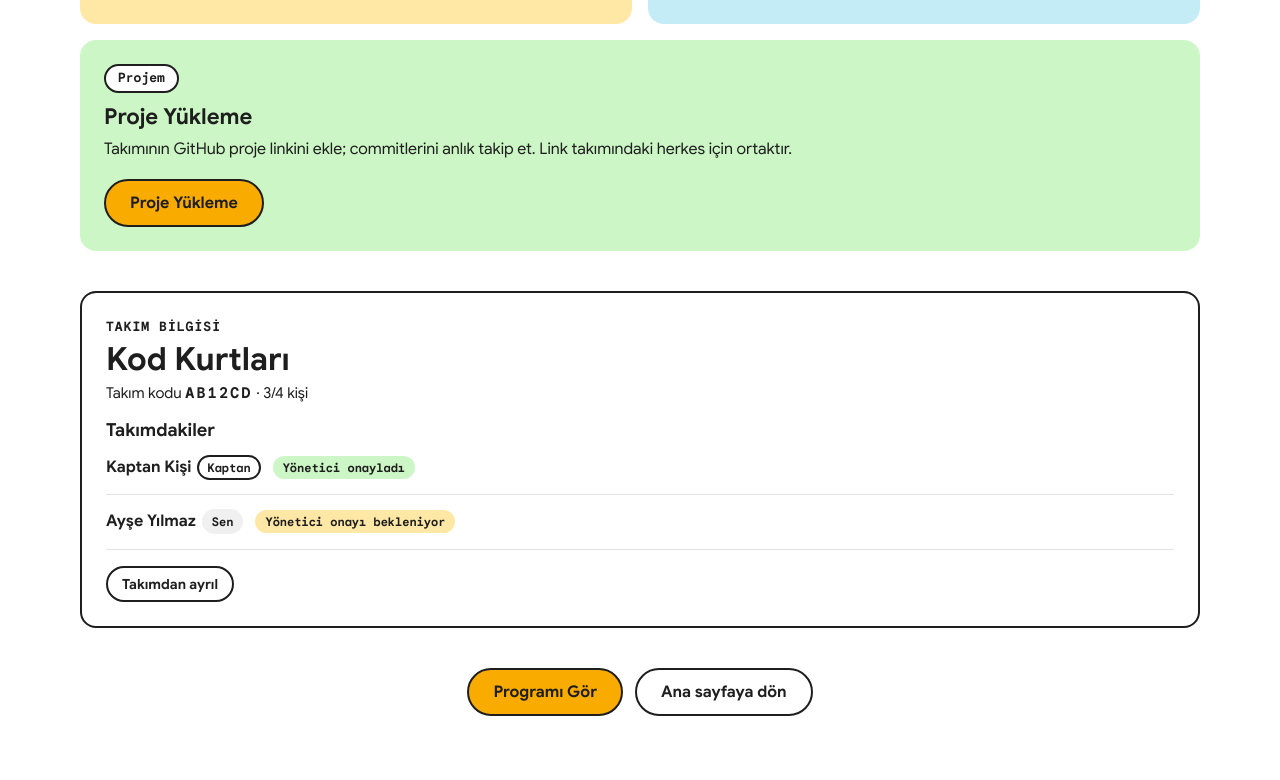
Test: Başvurum sayfası › üye listeyi görür ve yalnız ayrılabilir
(page scrolled)
Expected: the text "Kaptan Kişi" is shown, [106, 456, 192, 476]
Expected: the text "Sen" is shown, [202, 509, 244, 534]
Step 1. Click the button "Takımdan ayrıl" → (170, 584), box [106, 566, 234, 602]
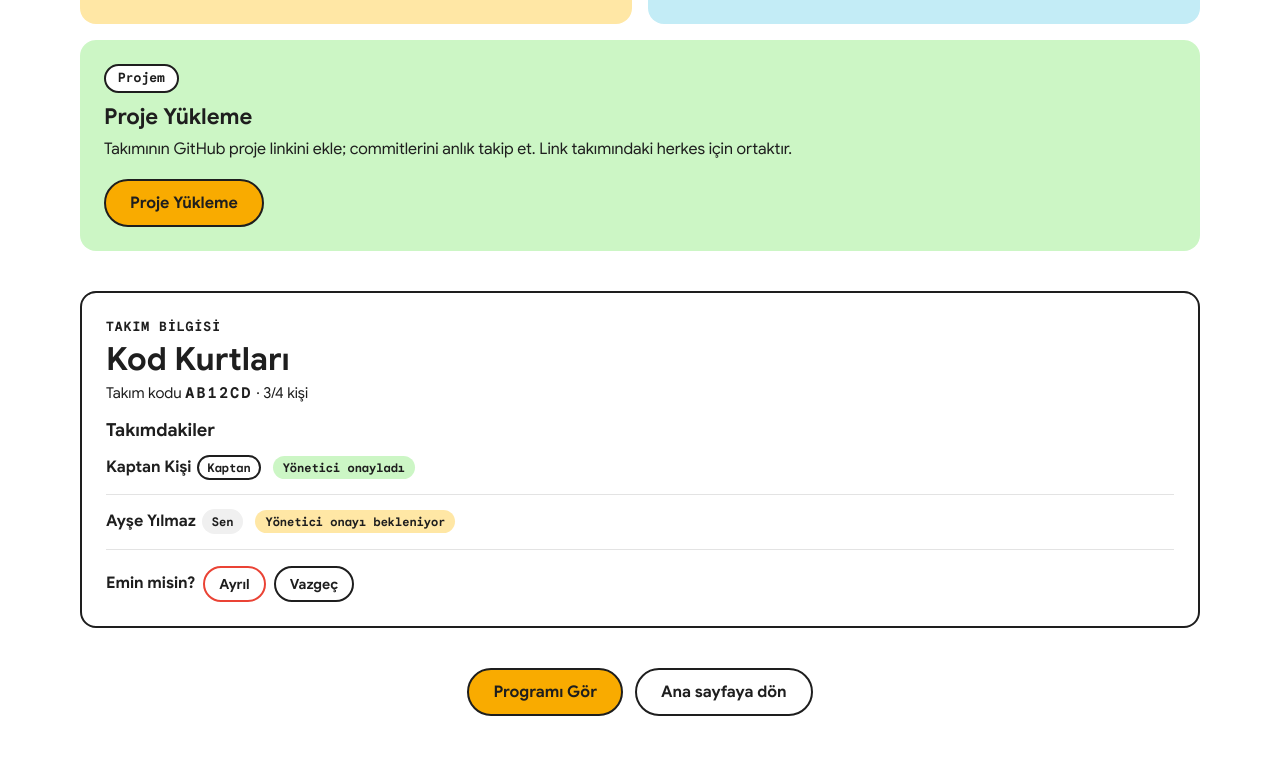
Step 2. Click the button "Ayrıl" → (234, 584), box [203, 566, 266, 602]
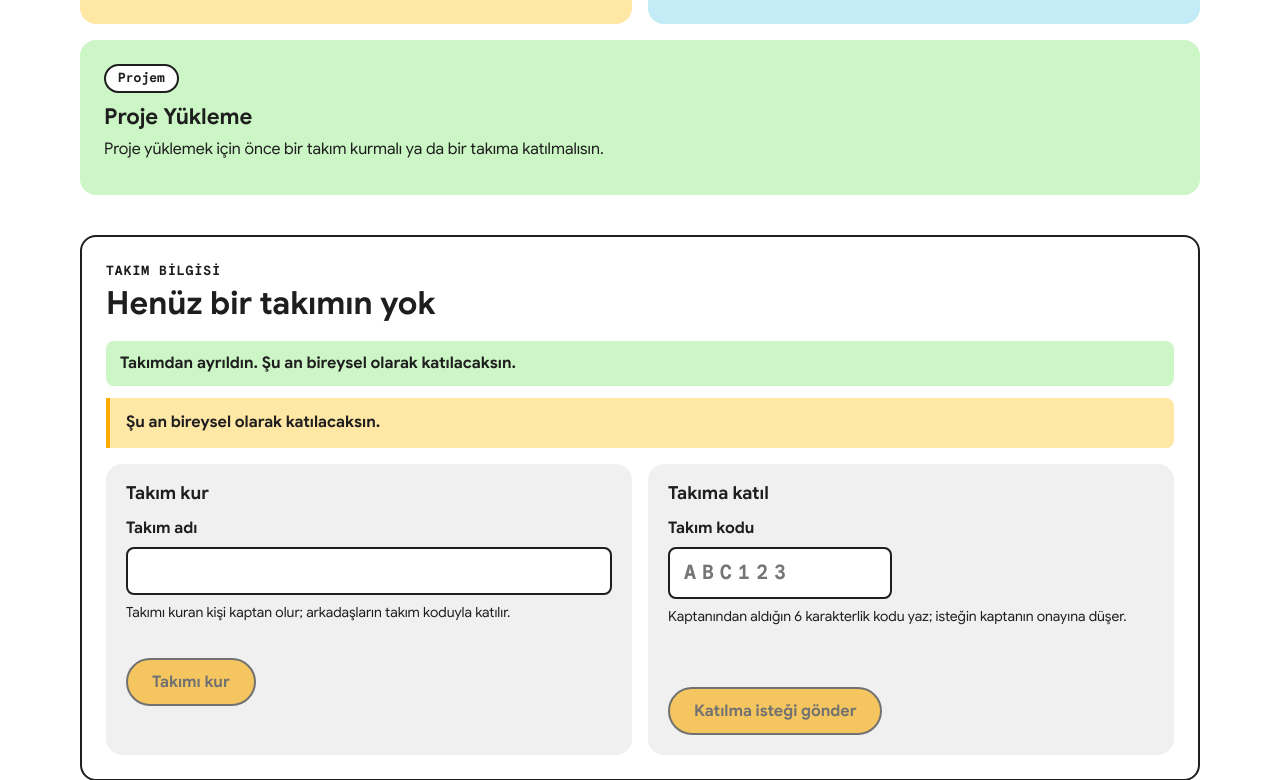
Now the text "Takımdan ayrıldın. Şu an bireysel olarak katılacaksın." is shown, box [106, 341, 1174, 386]
